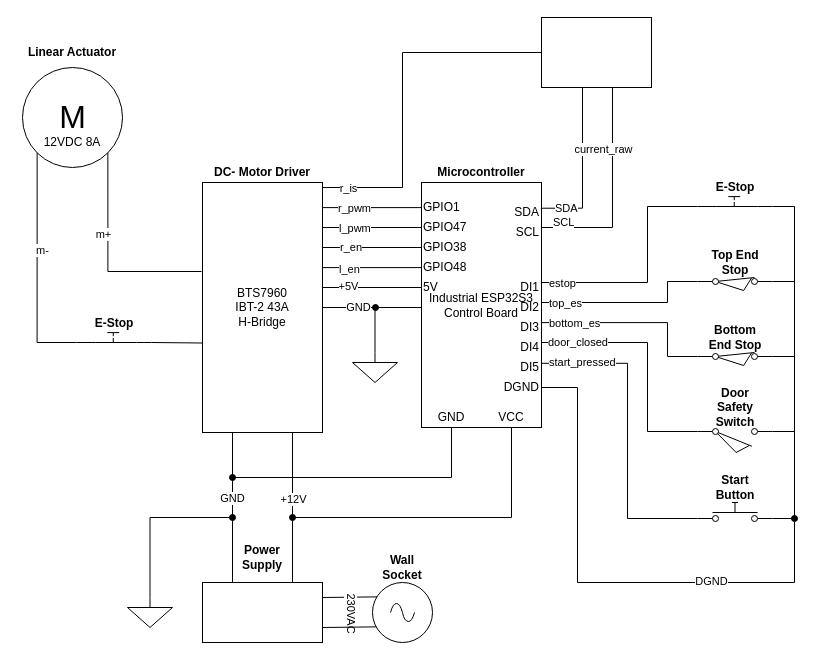
This 820x660 diagram has some shape labels left out. Each missing label, with the centre of its shape:
"ADC" goes at point 596,52.
"IN: 230VAC OUT: 12VDC 30A" goes at point 262,612.
